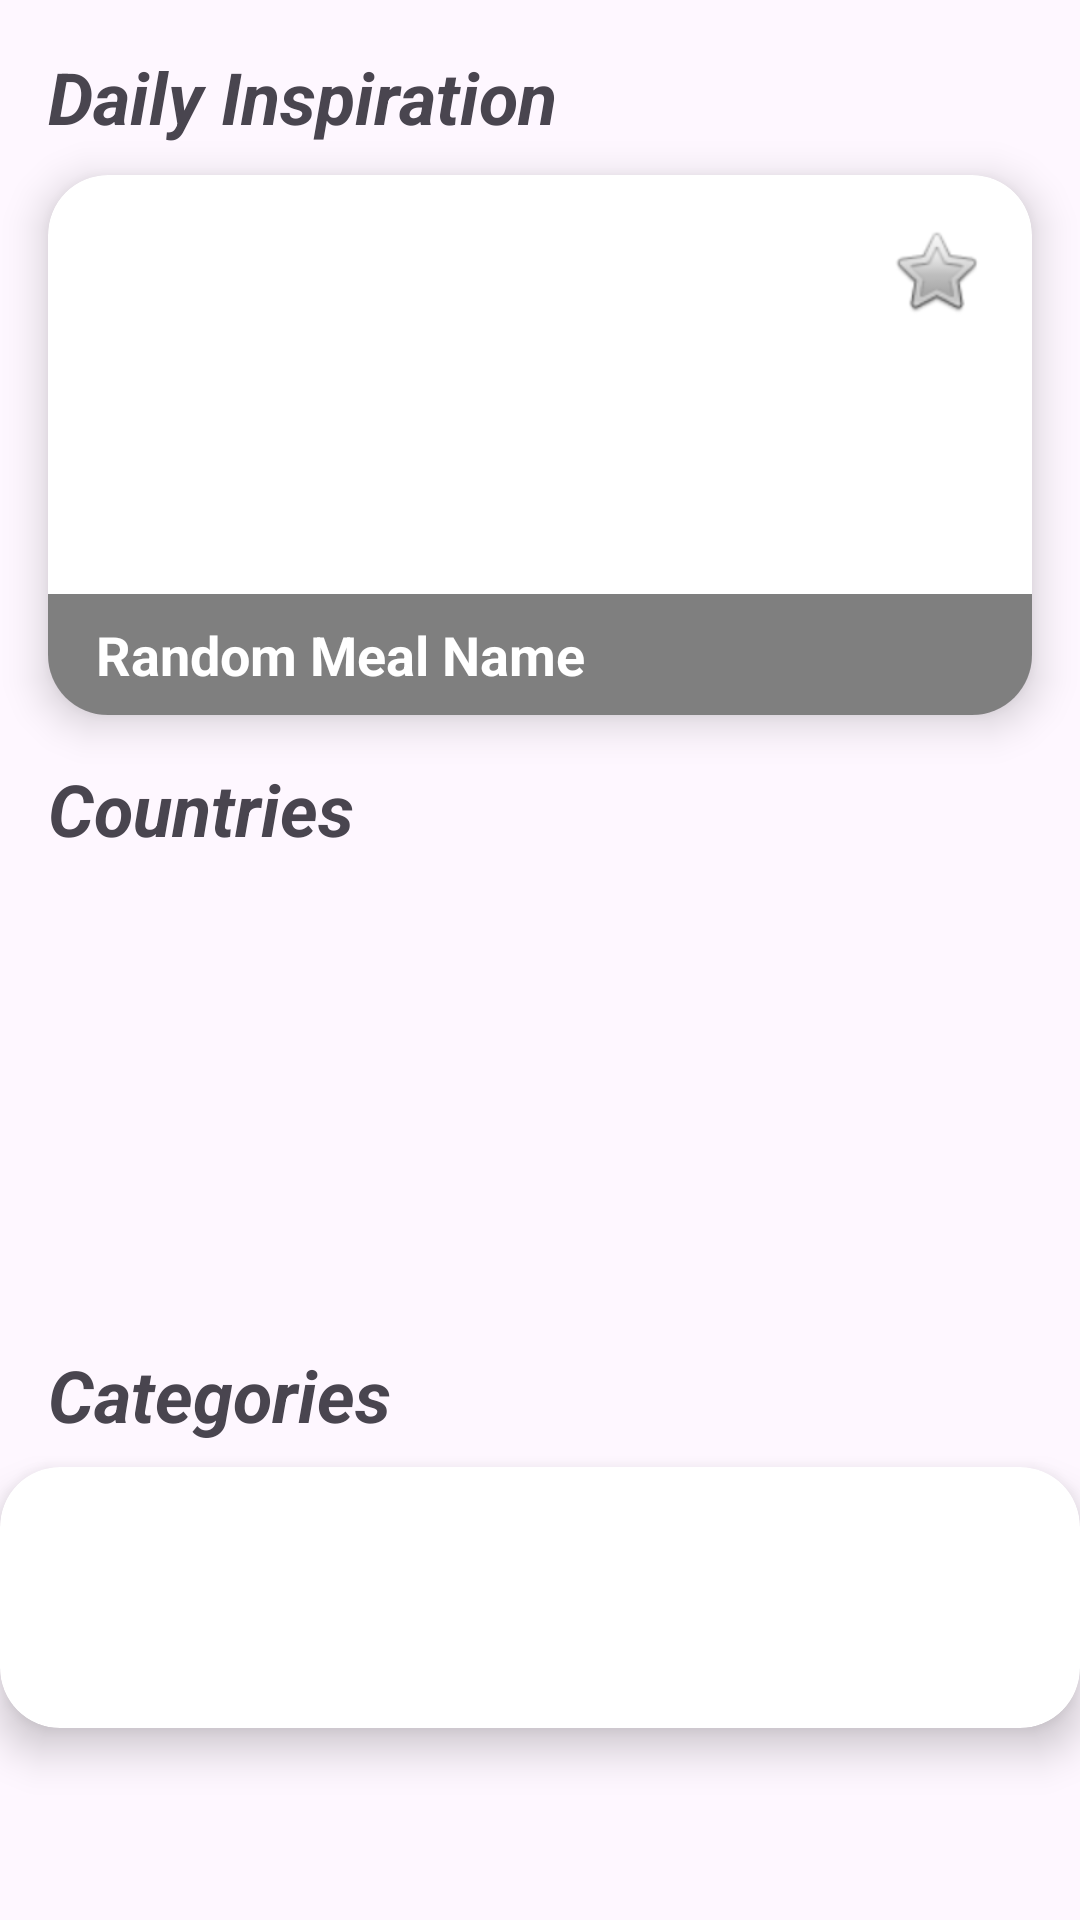

Icons on this 1080 x 1920 Android screen, each with the point to tap as (x=x, y=y):
star off: (x=937, y=272)
